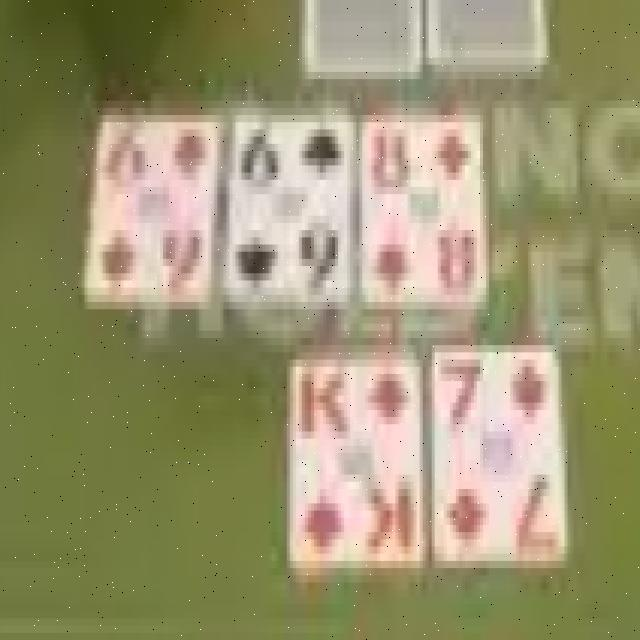Card-6: (84, 109, 218, 314), (230, 116, 350, 310)
Card-7: (434, 347, 564, 566)
Card-8: (361, 116, 482, 310)
Card-K: (286, 353, 420, 566)
